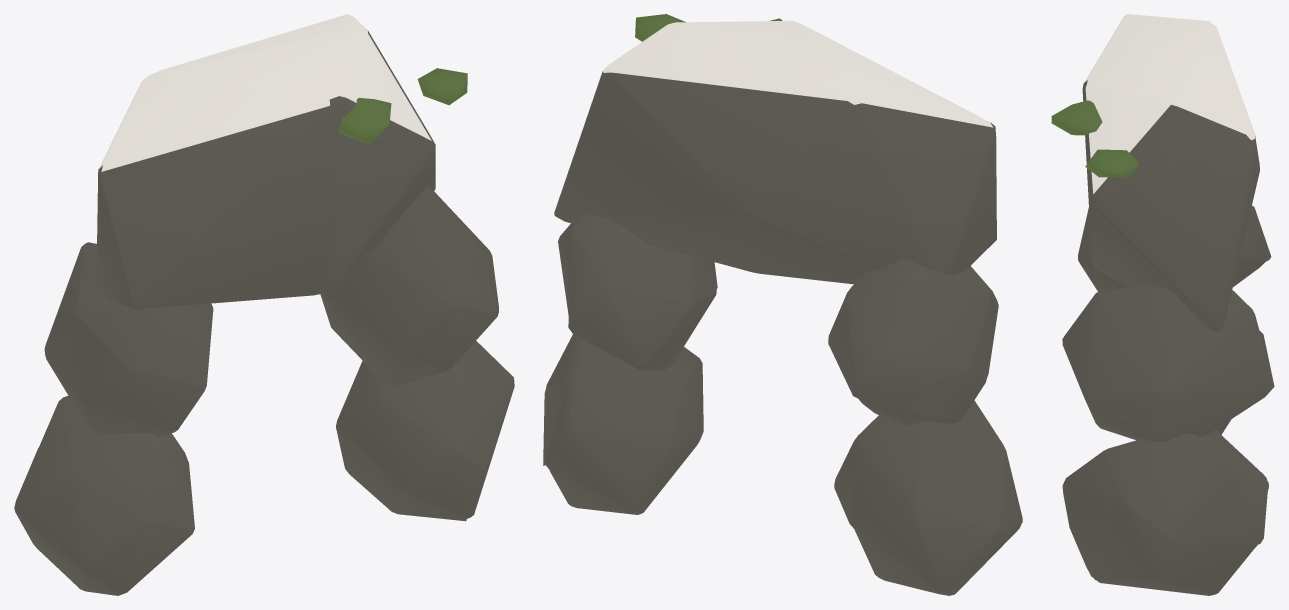
File: Blender_SeaStack_2.glb
3 views of the same model, side by side, from view 1: azimuth 30°, elevation 25°; view 2: azimuth 150°, elevation 25°; view 3: azimuth 270°, elevation 25° (orthographic). The views are drawn at different scales.
Parts seen in each view (by area): view 1: Blender_SeaStack_2; view 2: Blender_SeaStack_2; view 3: Blender_SeaStack_2.
Boxes of the visible parts, <box> form: Blender_SeaStack_2: <box>14,14,514,595</box>; Blender_SeaStack_2: <box>543,14,1022,595</box>; Blender_SeaStack_2: <box>1051,14,1274,595</box>.
Size of the model in its own units: 10.85 by 11.03 by 4.75.
